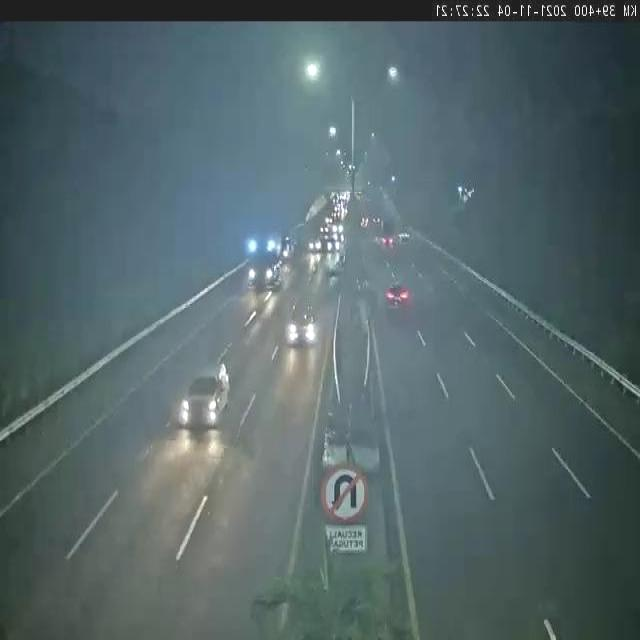Bus: (242, 231, 286, 299)
Car: (166, 362, 246, 448), (280, 298, 320, 353), (379, 275, 418, 323)
